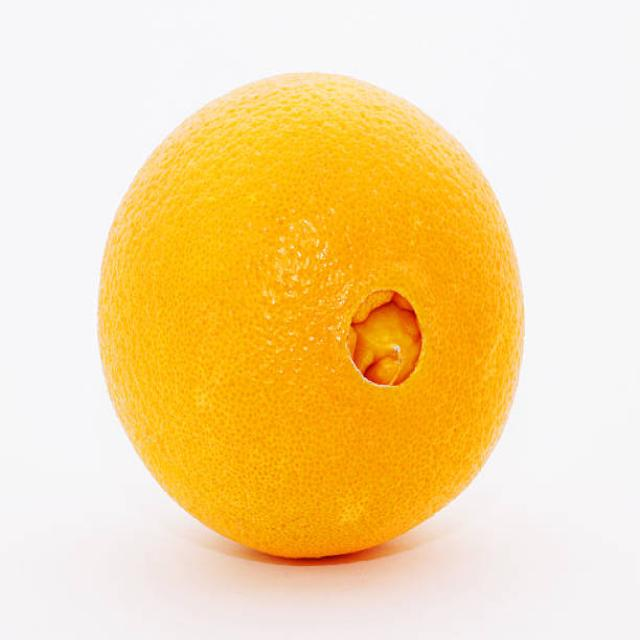Good_Orange: (95, 73, 527, 565)
